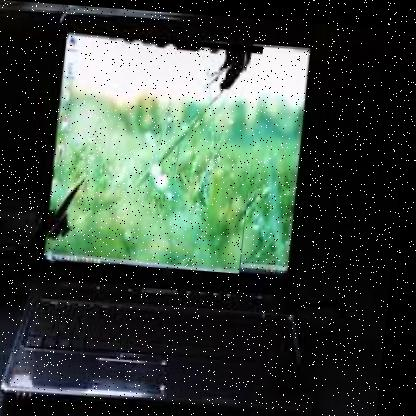crack: (49, 31, 265, 271)
